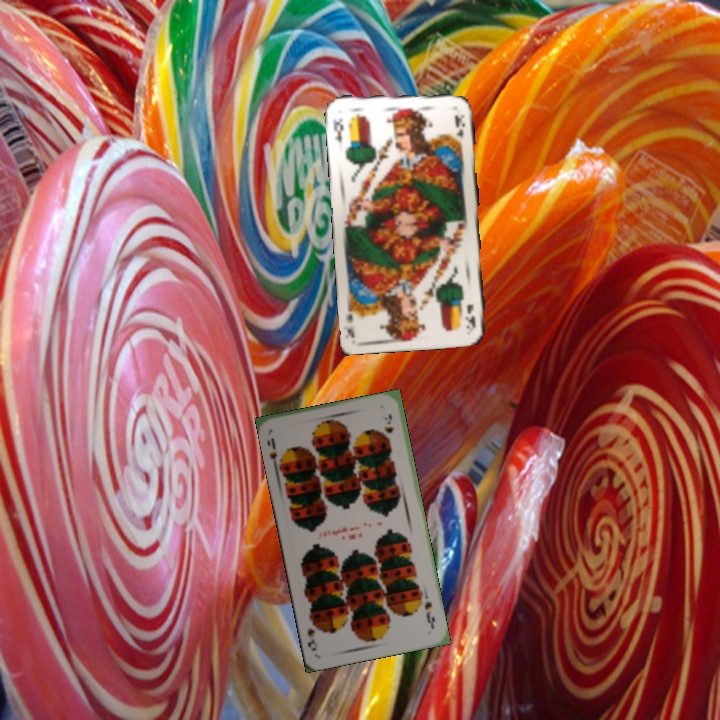EK: (329, 114, 346, 146), (462, 301, 478, 330)
S9: (263, 434, 287, 470), (421, 598, 437, 631)
